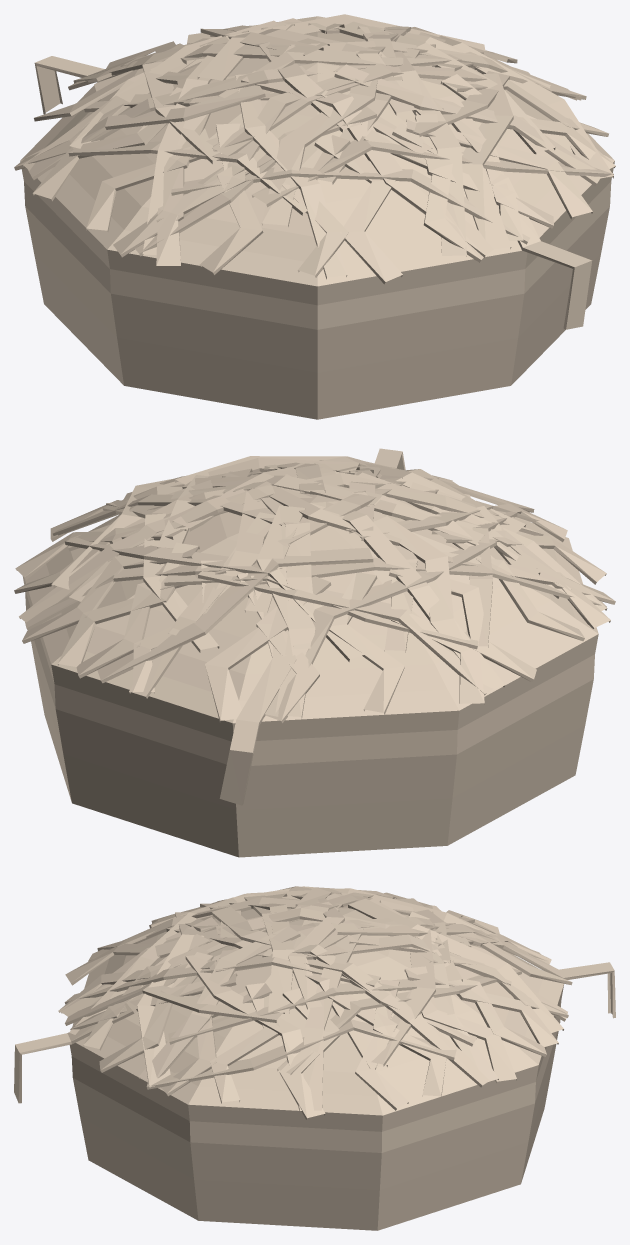
File: SM_Cook_PhoNoodlePile_01.fbx
3 renders of one model, top to bottom at view 1: azimuth 30°, elevation 25°; view 2: azimuth 150°, elevation 25°; view 3: azimuth 270°, elevation 25°, orthographic. The views are drawn at different scales.
Parts seen in each view (by area): view 1: SM_Cook_PhoNoodlePile_01; view 2: SM_Cook_PhoNoodlePile_01; view 3: SM_Cook_PhoNoodlePile_01.
Boxes of the visible parts, <box> form: SM_Cook_PhoNoodlePile_01: <box>14,14,615,419</box>; SM_Cook_PhoNoodlePile_01: <box>14,448,615,857</box>; SM_Cook_PhoNoodlePile_01: <box>14,886,615,1230</box>.
Size of the model in its own units: 0.4762 by 0.2144 by 0.5559.
1 material, 1 textured.
